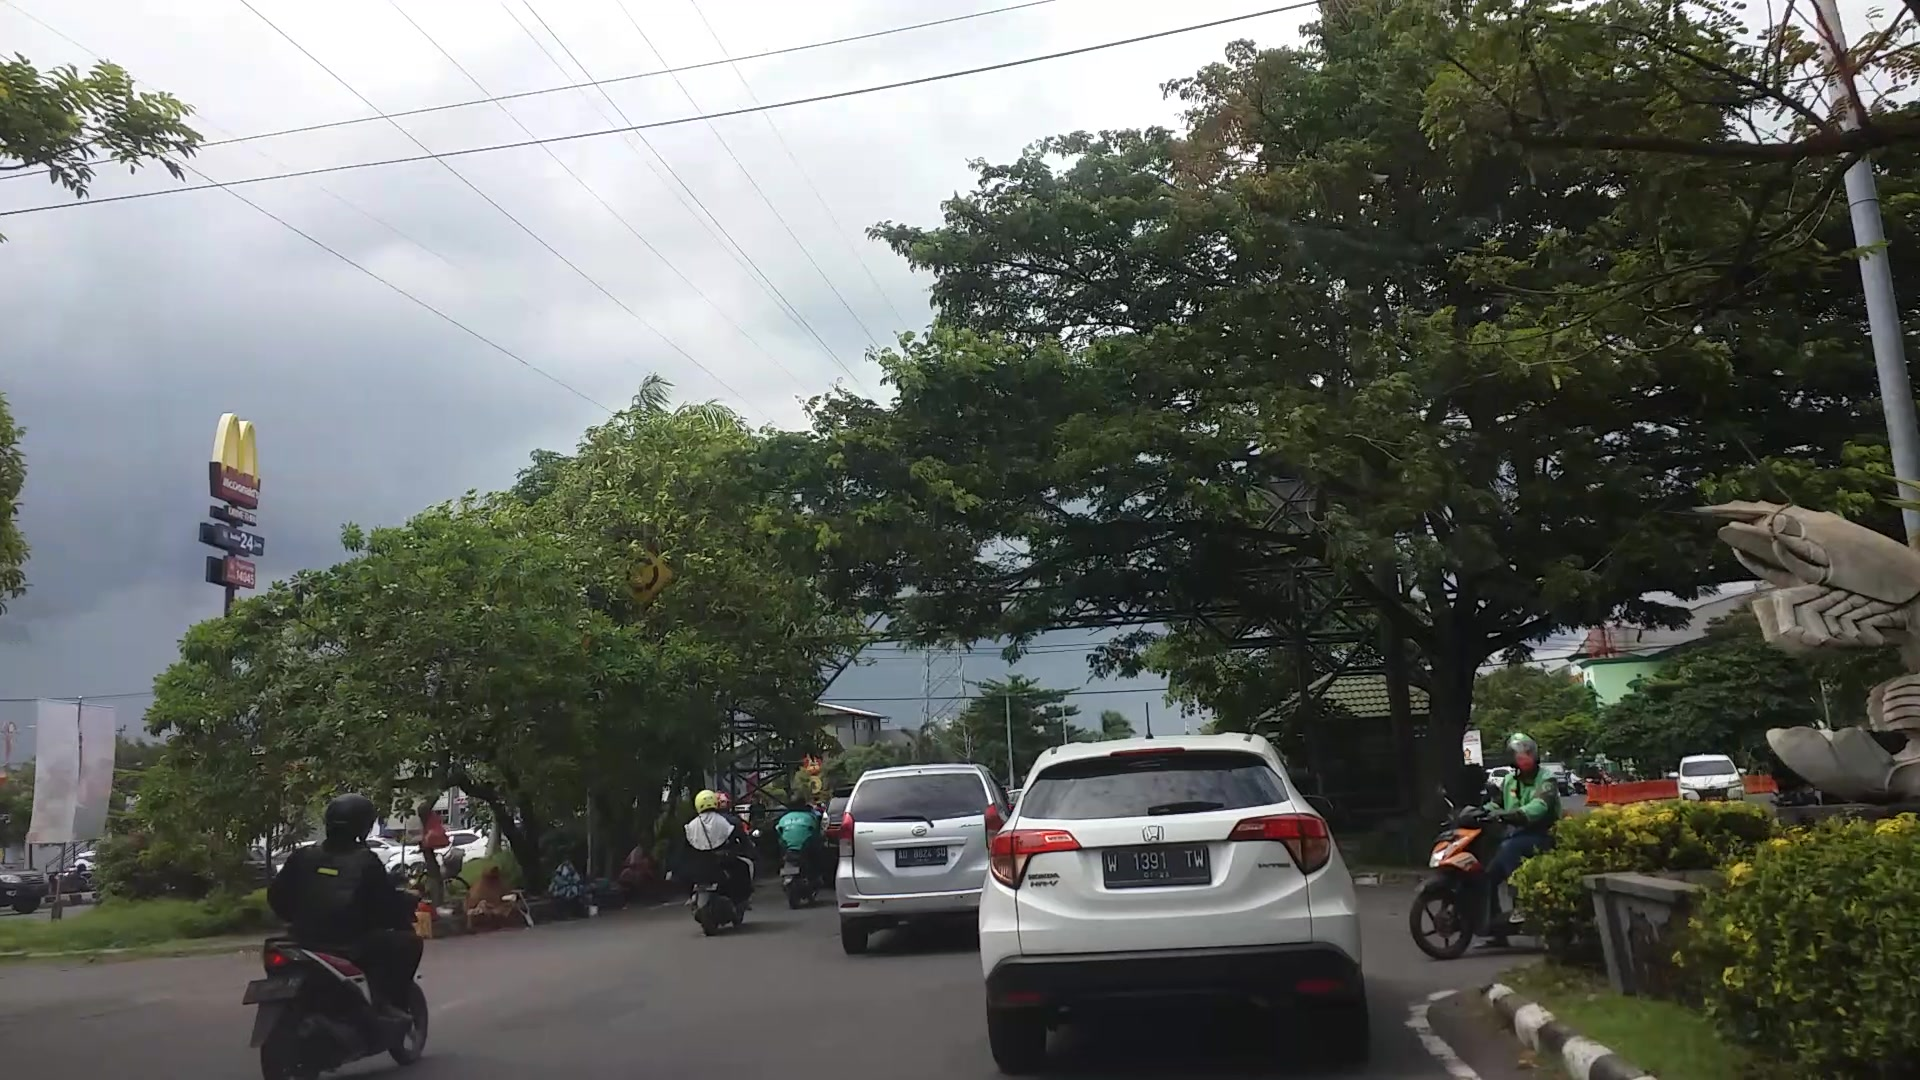plate_positive: (1102, 847, 1212, 886)
